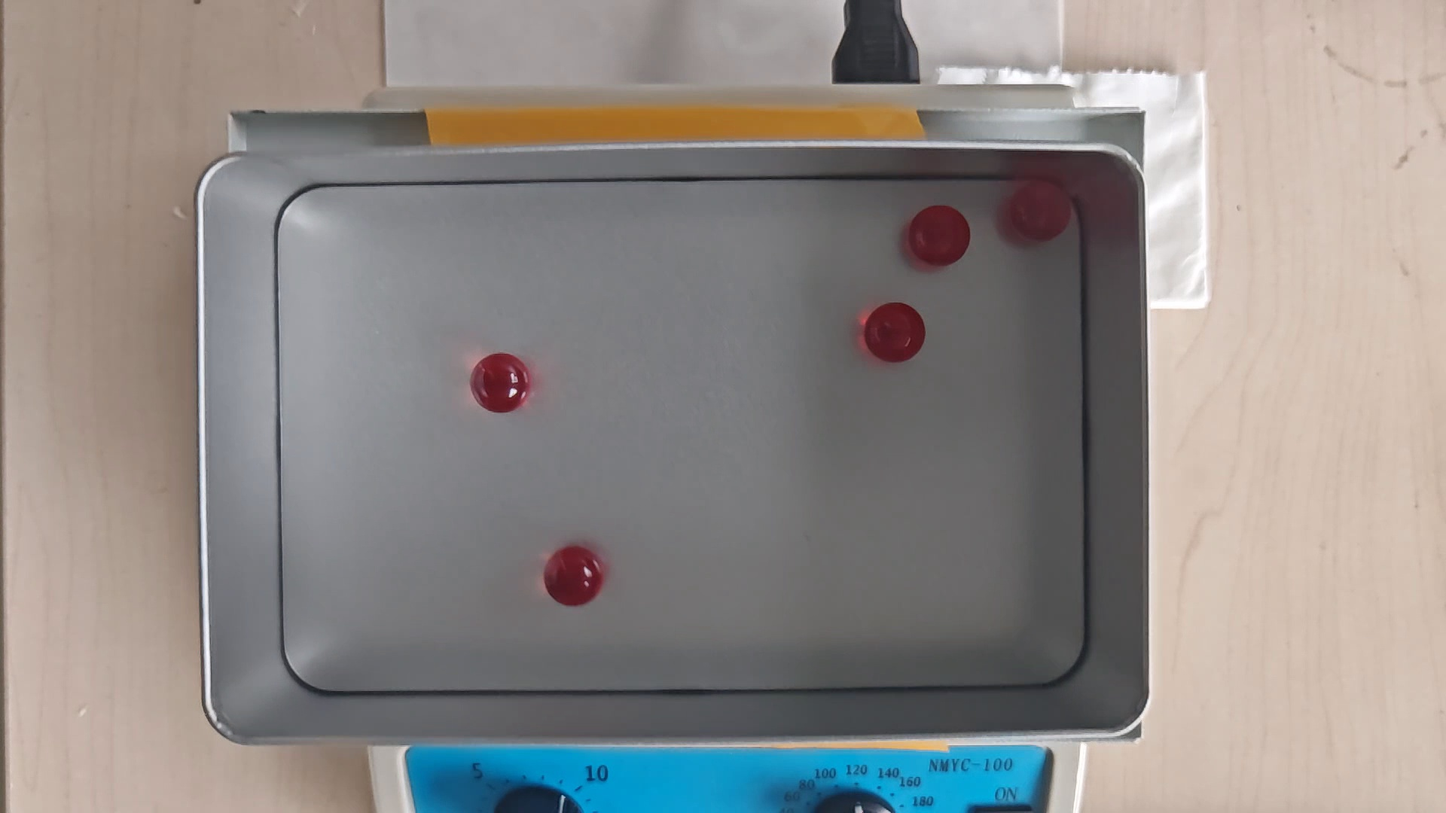ball: (471, 352, 532, 415), (545, 544, 606, 607), (909, 208, 972, 267), (866, 304, 926, 365), (1011, 183, 1073, 242)
container: (281, 184, 1085, 693)
